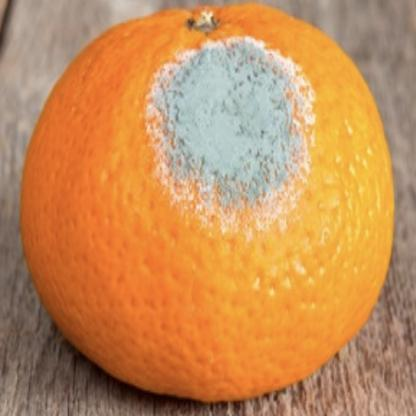rotten: (24, 3, 394, 397)
